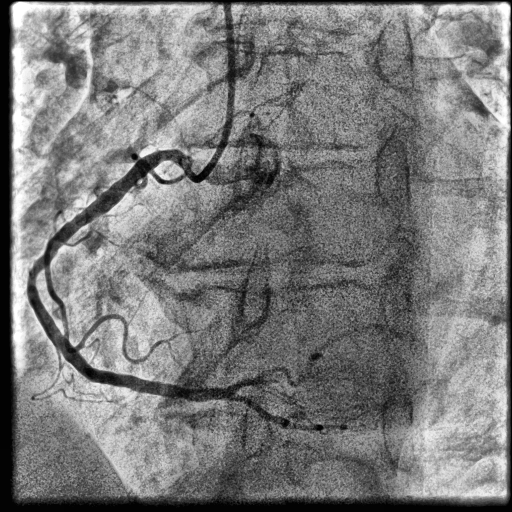pborca: (230, 366, 300, 393)
pda: (229, 393, 348, 431)
rca: (27, 148, 237, 401)
